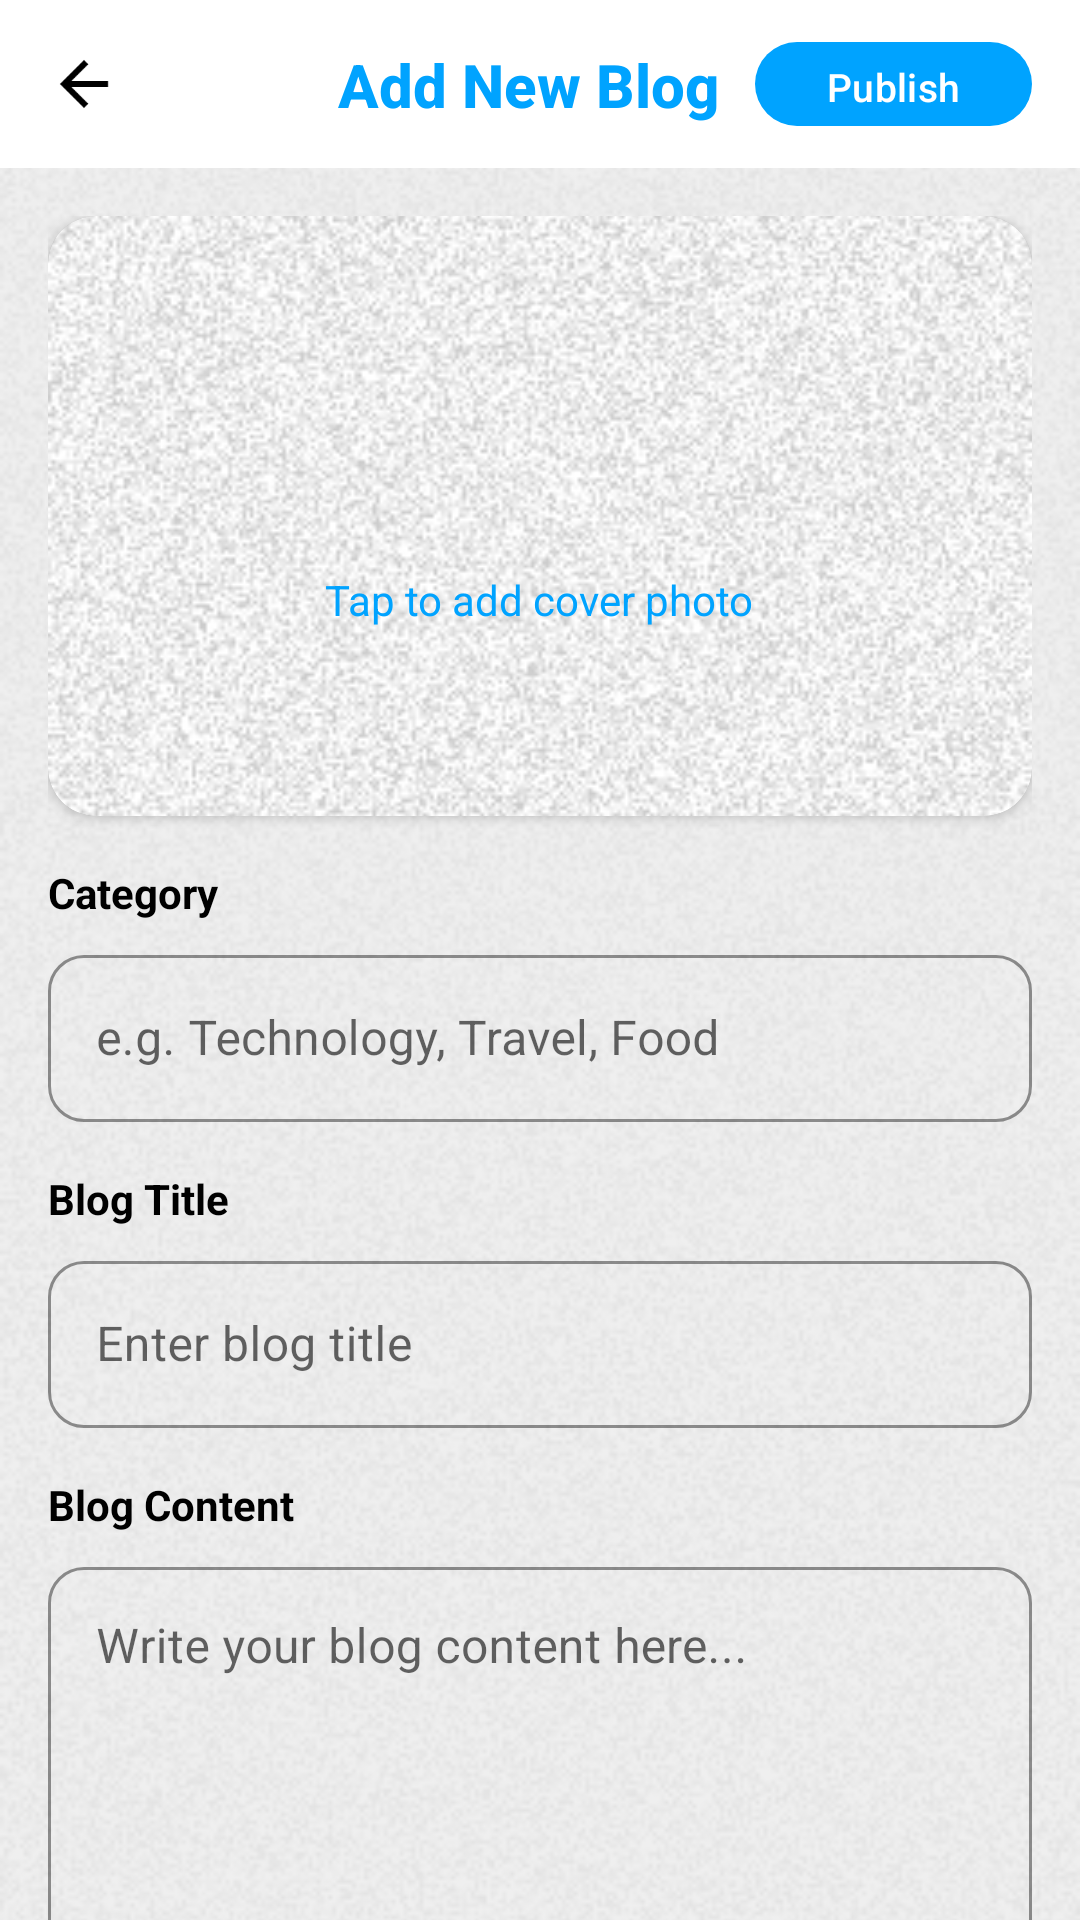

Screen size 1080×1920. Icon name, then its center in pixels as point (x, y):
back: point (84, 84)
